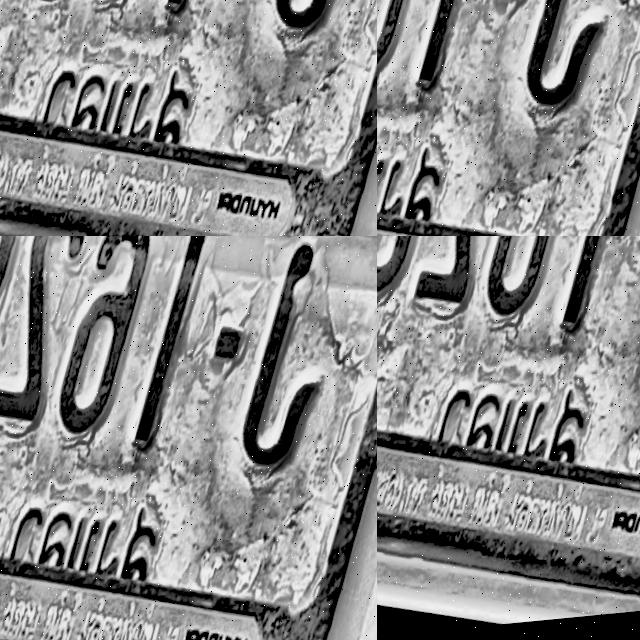license-plate: (377, 236, 640, 640)
